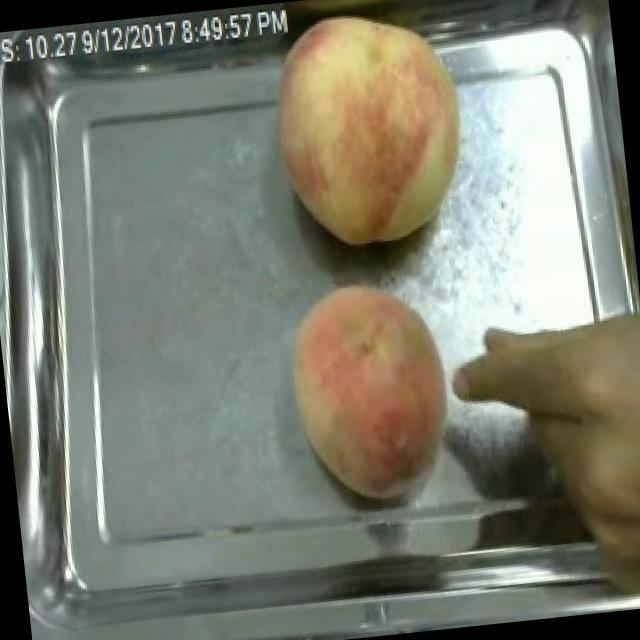Fruit: (253, 0, 482, 262), (438, 296, 640, 572), (270, 264, 471, 514)
